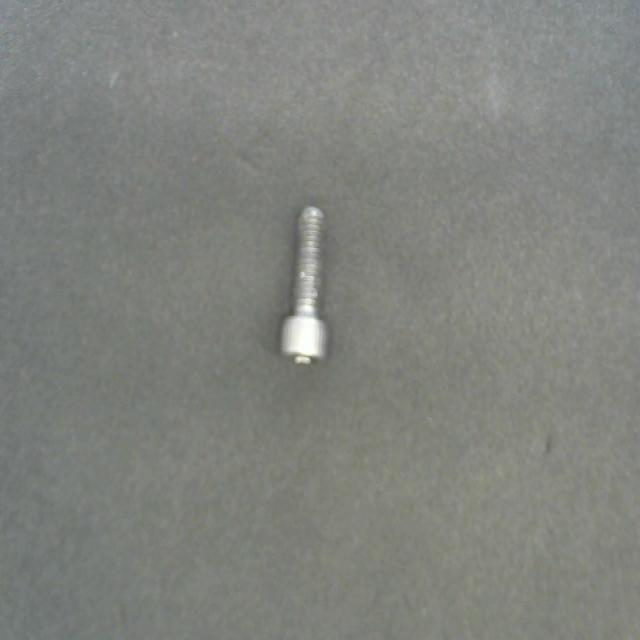SocketHeadCapScrew: (274, 177, 341, 392)
